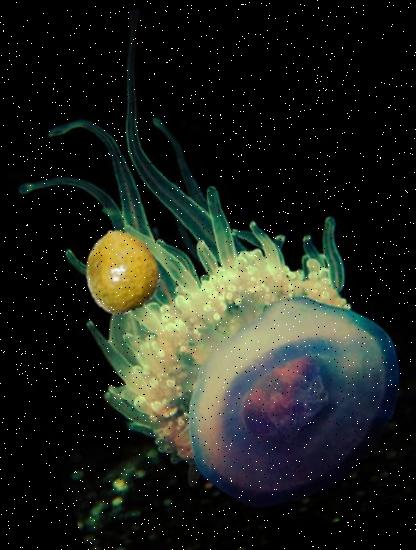Guava: (67, 217, 175, 324)
